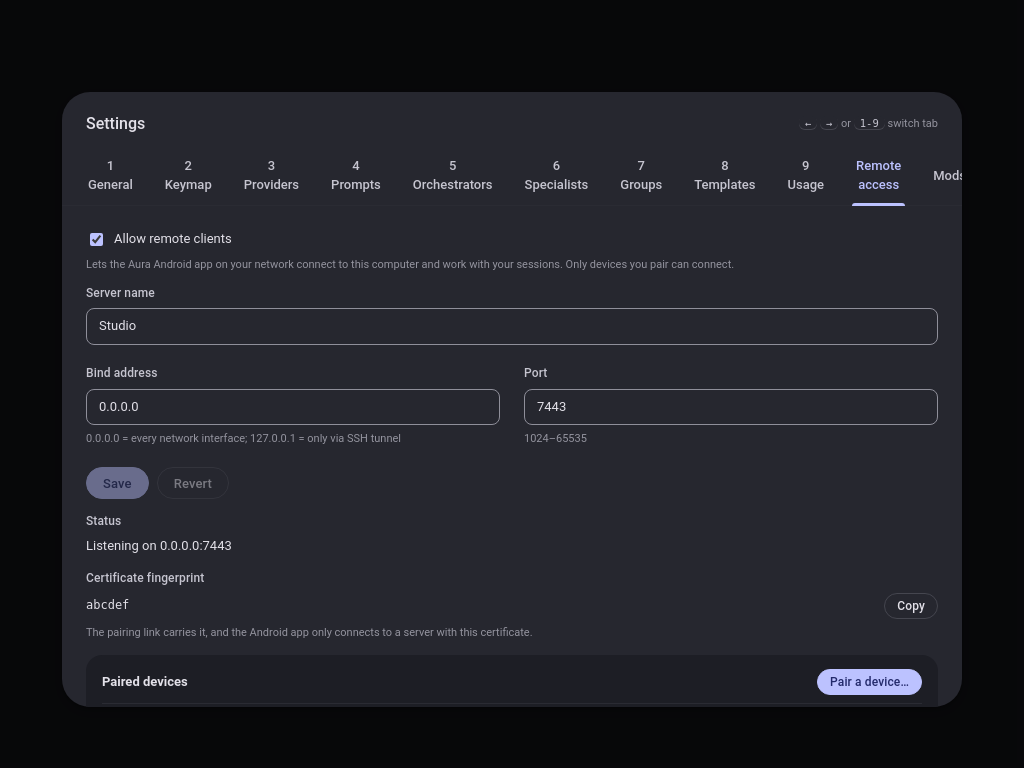
shows why a pairing code could not be made
The image size is (1024, 768).
Click the button "Pair a device…" at coordinates (870, 682), box [817, 669, 922, 695]
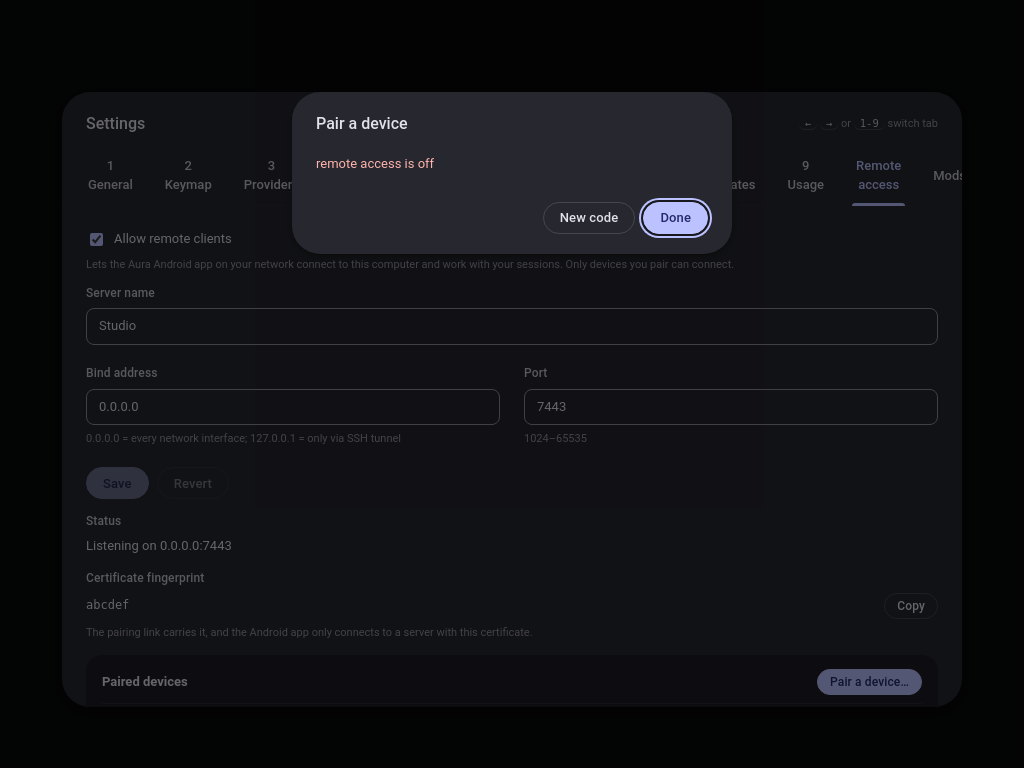
expect the text "remote access is off" is shown: met, box [316, 156, 434, 171]
